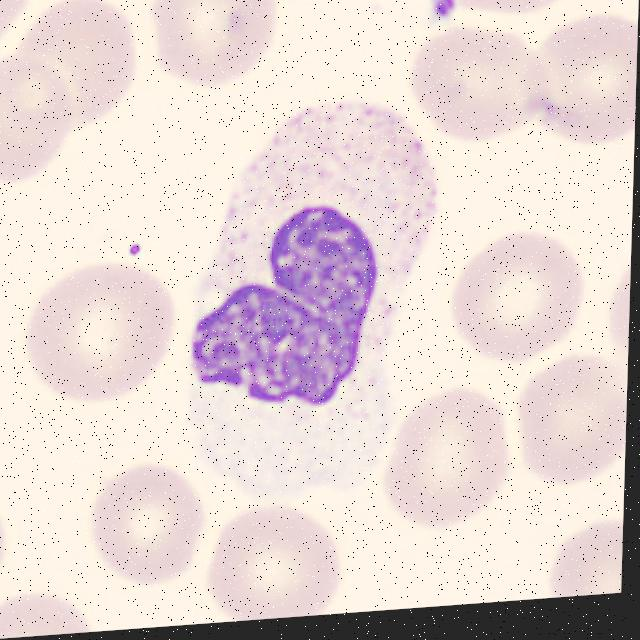neutrophil: (179, 95, 445, 509)
rbc: (14, 243, 180, 414), (383, 370, 530, 540), (392, 8, 557, 155), (433, 224, 588, 370), (208, 488, 346, 623), (18, 0, 141, 139), (528, 16, 638, 169), (516, 341, 629, 485), (145, 0, 296, 105), (92, 455, 206, 590), (0, 34, 77, 199), (0, 562, 105, 640), (550, 504, 624, 598), (440, 0, 623, 27), (606, 260, 631, 374), (0, 471, 19, 589), (0, 0, 25, 49)
